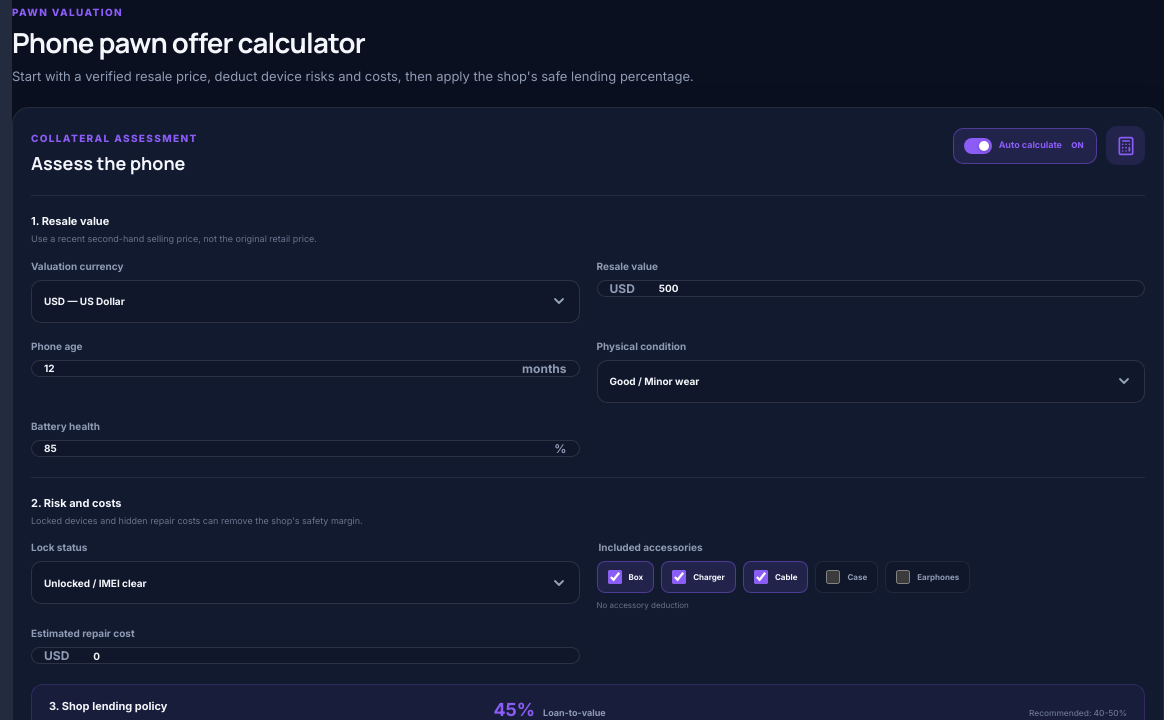
DepreciationPage feature integration › handles manual offer mode when auto-calculate is toggled off
The image size is (1164, 720).
# Turn auto-calculate off
Click the switch labelled "Auto calculate On" at (1025, 146), box [953,128,1097,164]
(page scrolled)
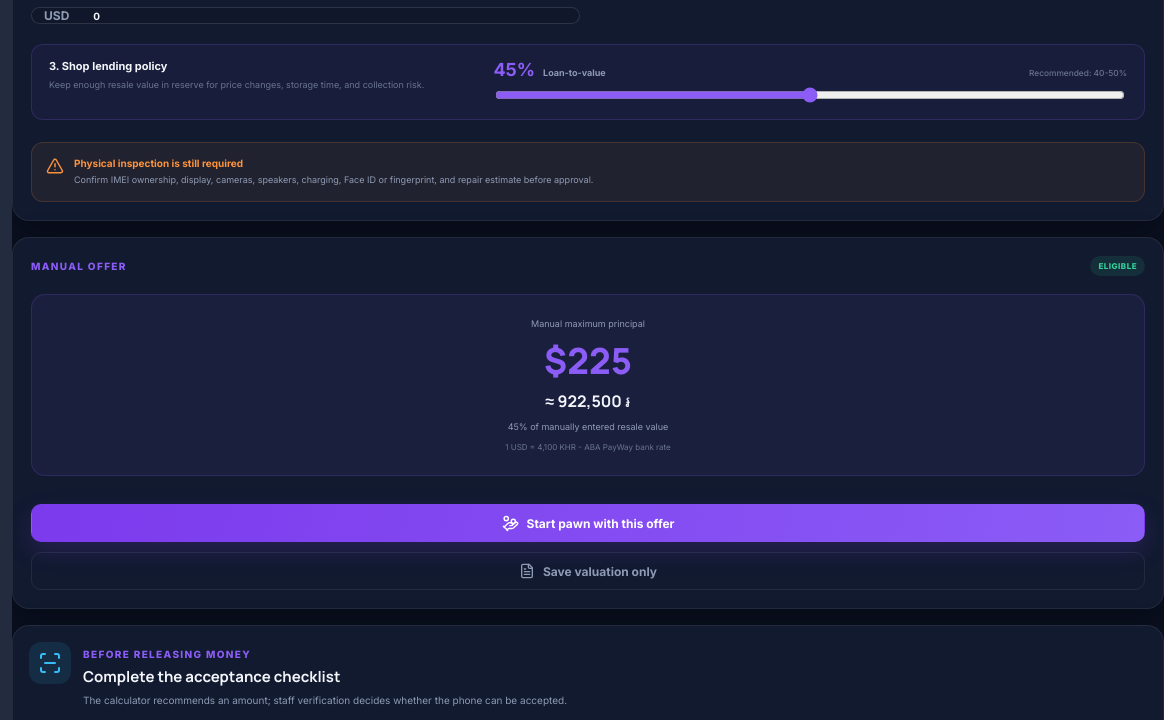
Check: the text "Manual offer" is shown, box [31,260,127,272]
Check: the text "$225" is shown, box [544,336,632,386]
